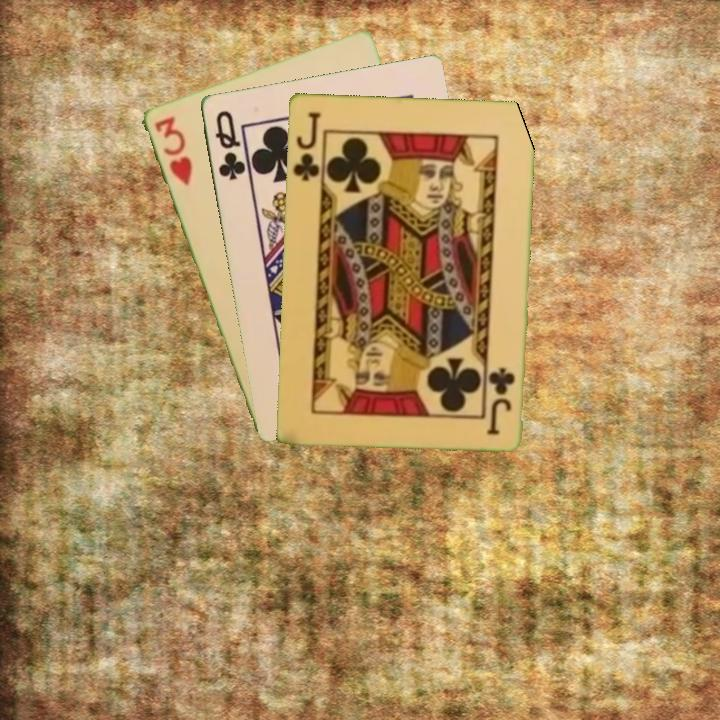3h: (150, 112, 195, 189)
Jc: (289, 108, 323, 188), (484, 364, 518, 438)
Qc: (211, 106, 248, 183)
